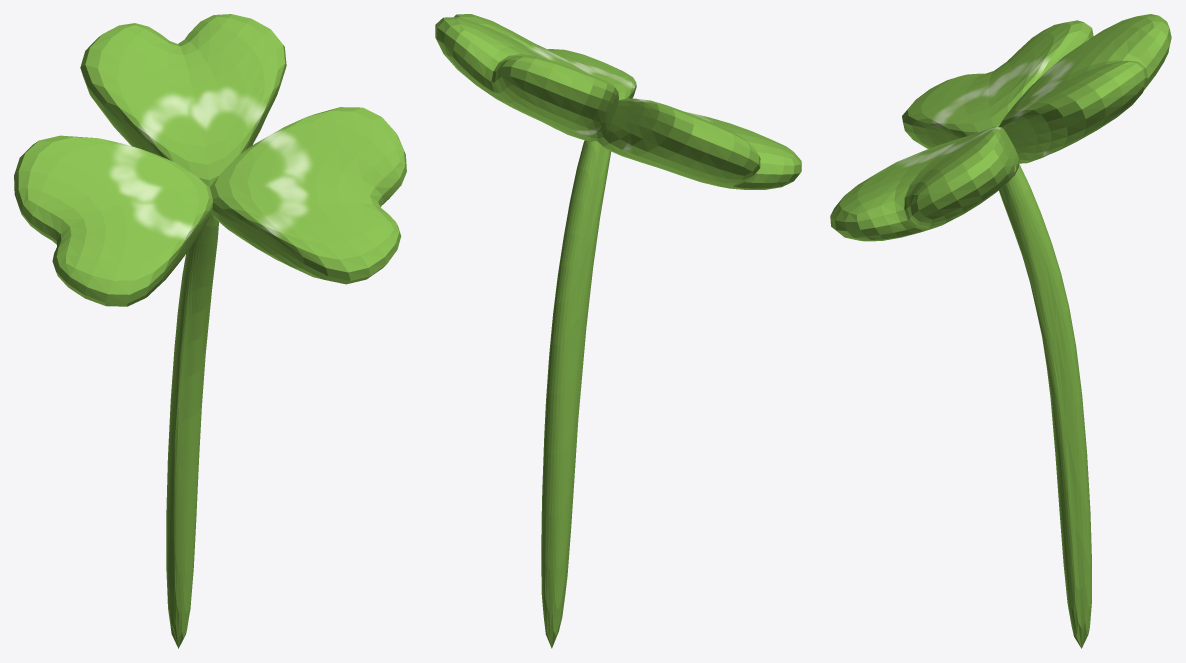
The model's file is Neutral_three_cl.glb.
The picture shows the model from 3 angles, left to right: view 1: azimuth 30°, elevation 25°; view 2: azimuth 150°, elevation 25°; view 3: azimuth 270°, elevation 25°; orthographic projection. The views are drawn at different scales.
Parts seen in each view (by area): view 1: Cube.001; view 2: Cube.001; view 3: Cube.001.
Part boxes in pixels (x1,y1,x2,y2): Cube.001: (14,14,406,648); Cube.001: (435,14,801,648); Cube.001: (830,14,1171,648).
Bounding box in the file's own units: 4.47 × 7.64 × 3.83.
2 materials, 1 textured.
